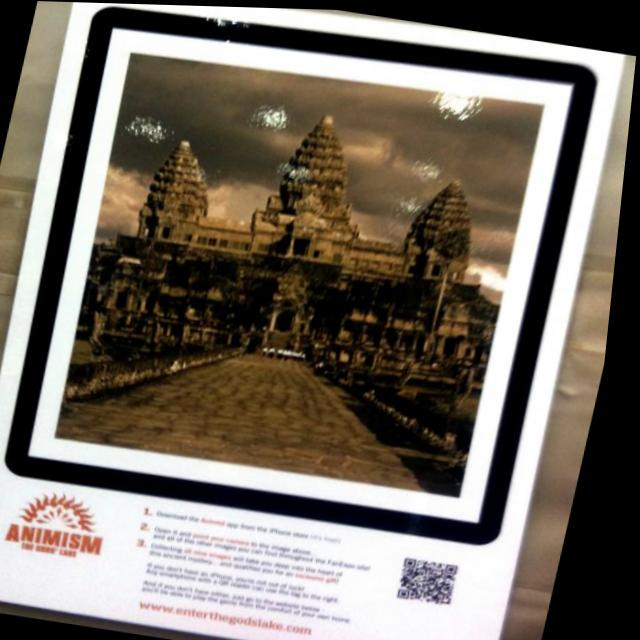qrcode: (409, 556, 472, 604)
